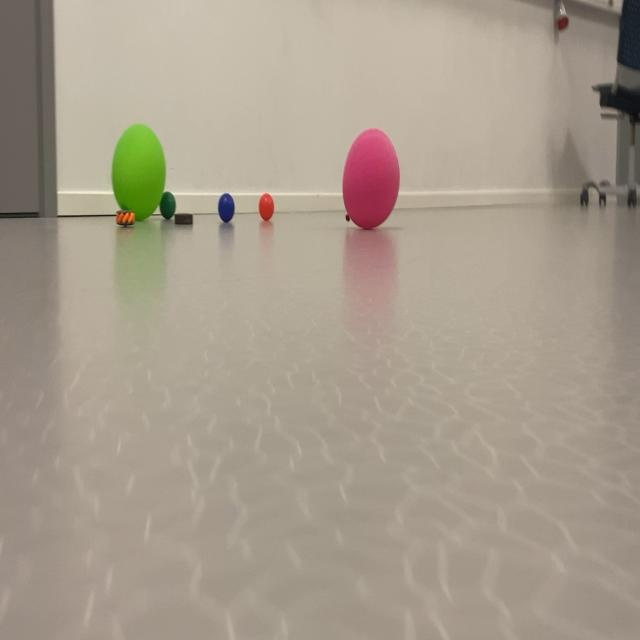7: (255, 181, 277, 242)
blue ball: (160, 185, 280, 224)
green ball: (209, 188, 240, 240)
red ball: (159, 182, 178, 220)
